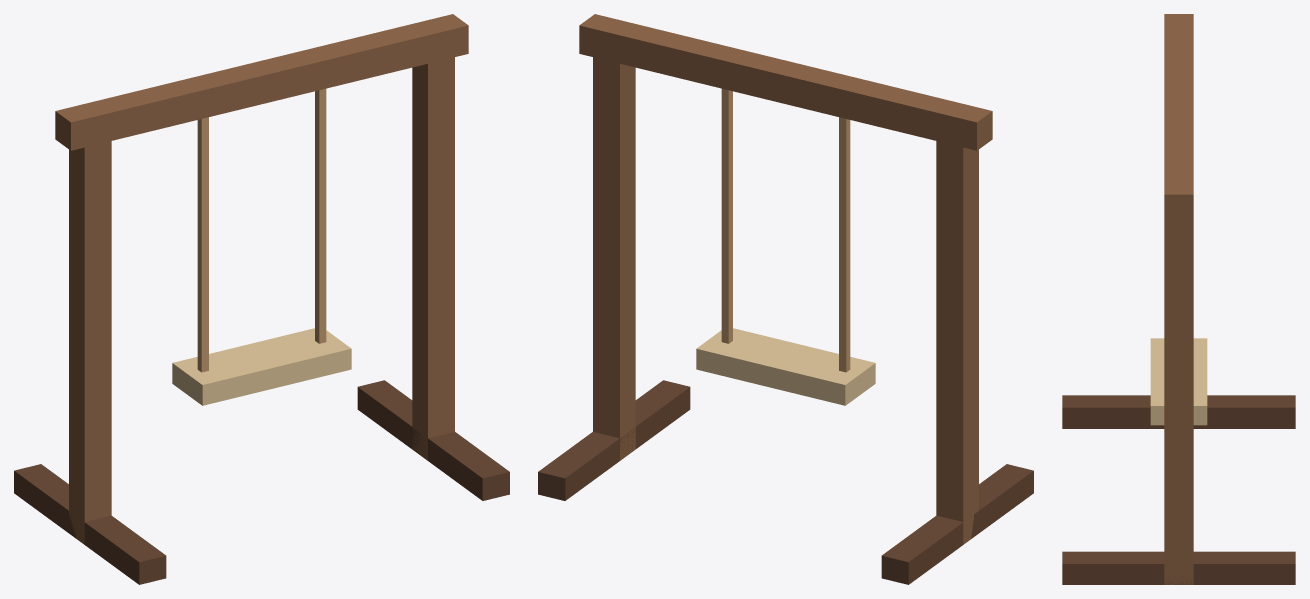
Rendered from deco_swing.obj.
The picture shows the model from 3 angles, left to right: view 1: azimuth 30°, elevation 25°; view 2: azimuth 150°, elevation 25°; view 3: azimuth 270°, elevation 25°; orthographic projection. The views are drawn at different scales.
Visible parts, largest first — view 1: deco_swing; view 2: deco_swing; view 3: deco_swing.
Part boxes in pixels (bbox=[...]): deco_swing: bbox=[14, 14, 509, 584]; deco_swing: bbox=[538, 14, 1033, 584]; deco_swing: bbox=[1062, 14, 1295, 584].
Size of the model in its own units: 0.044 by 0.045 by 0.024.
Materials: 1 (1 with a texture image).
